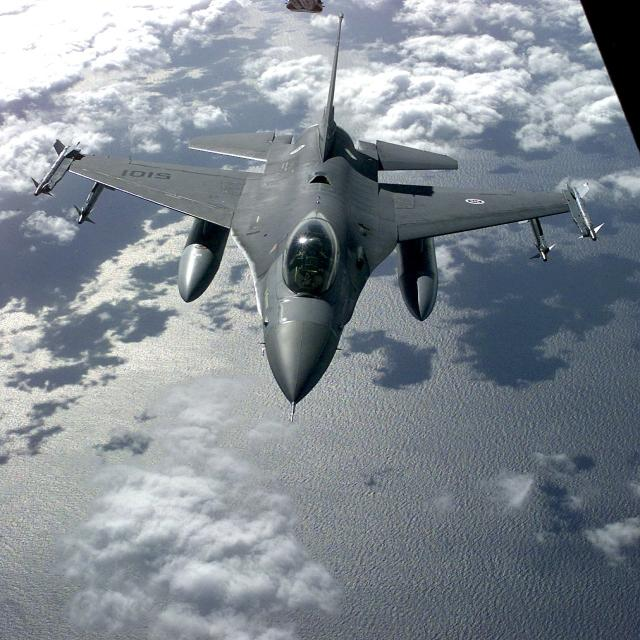MIL_Plane: (29, 10, 606, 422)
